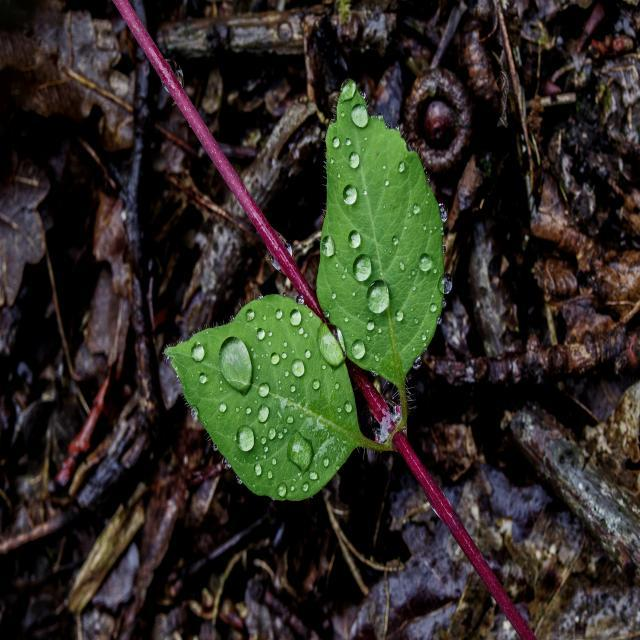raindrop: (218, 328, 260, 401), (311, 310, 352, 377), (286, 422, 322, 479), (356, 279, 396, 330), (230, 417, 260, 464), (347, 241, 377, 288), (320, 228, 346, 274), (346, 98, 377, 132), (338, 178, 366, 212), (432, 266, 460, 299), (344, 144, 366, 180), (288, 296, 308, 334), (288, 351, 310, 382), (416, 246, 432, 280), (190, 341, 210, 366)
